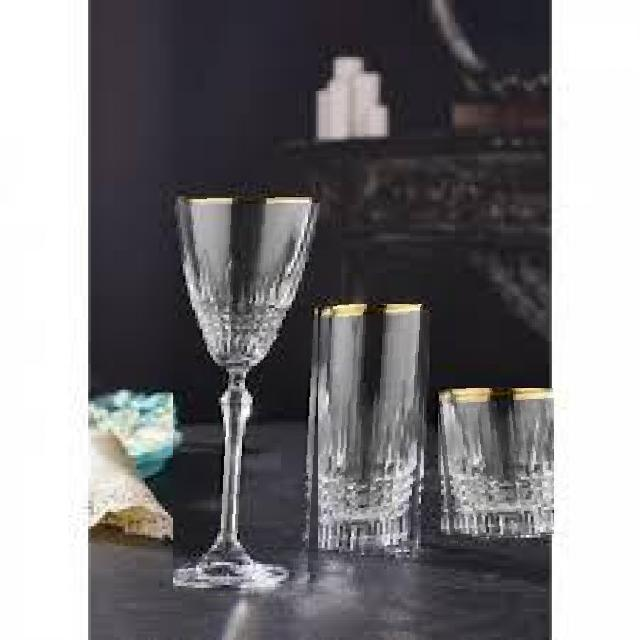Glass: (174, 196, 328, 597), (318, 304, 428, 558), (436, 388, 554, 539)
